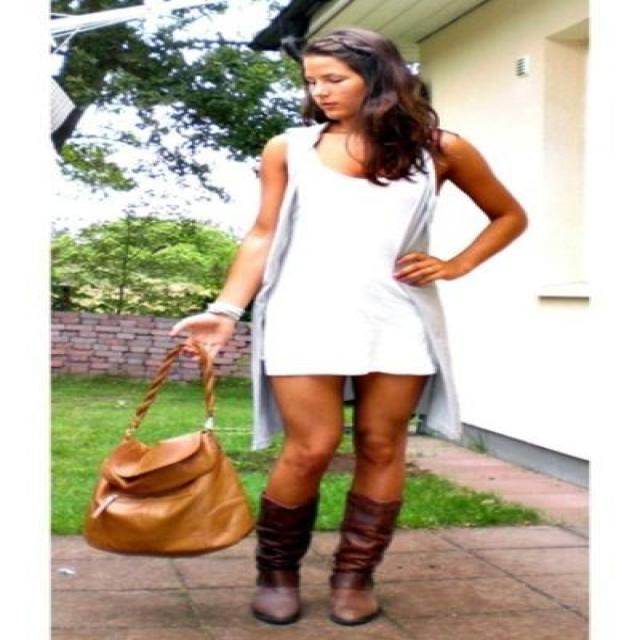bag: (81, 321, 258, 558)
dress: (251, 122, 434, 396)
shoe: (251, 489, 400, 625)
